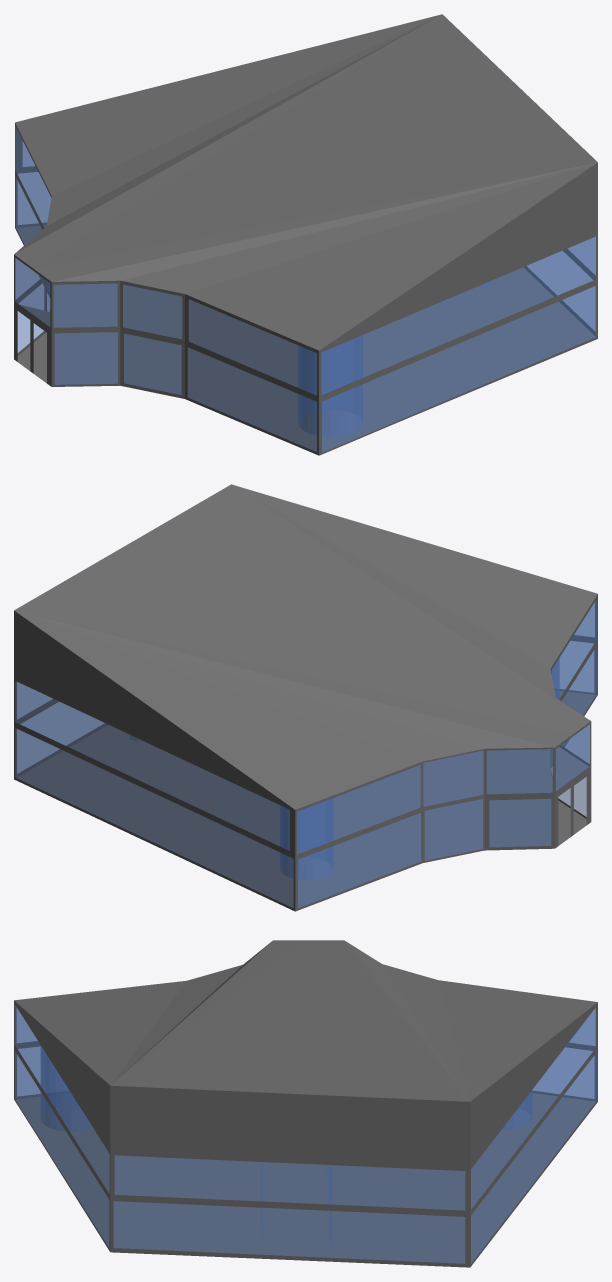
File: Airport buildingv4.fbx
The picture shows the model from 3 angles, top to bottom: view 1: azimuth 30°, elevation 25°; view 2: azimuth 150°, elevation 25°; view 3: azimuth 270°, elevation 25°; orthographic projection. The views are drawn at different scales.
Visible parts, largest first — view 1: Model; view 2: Model; view 3: Model.
Part boxes in pixels (x1,y1,x2,y2): Model: (14,14,597,455); Model: (14,484,597,911); Model: (14,940,597,1267).
Size of the model in its own units: 1158 by 395 by 1253.
